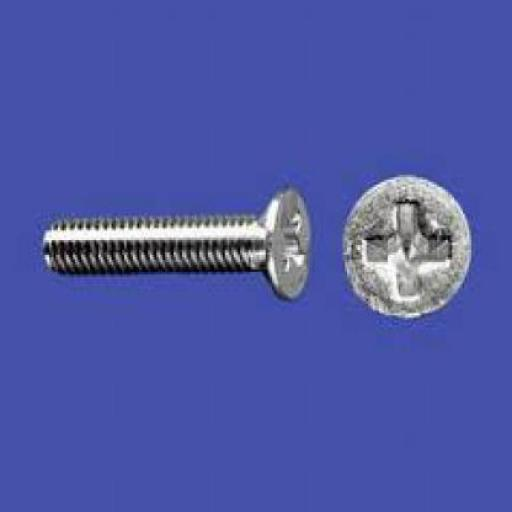Bolt: (41, 187, 313, 302), (341, 174, 473, 321)
